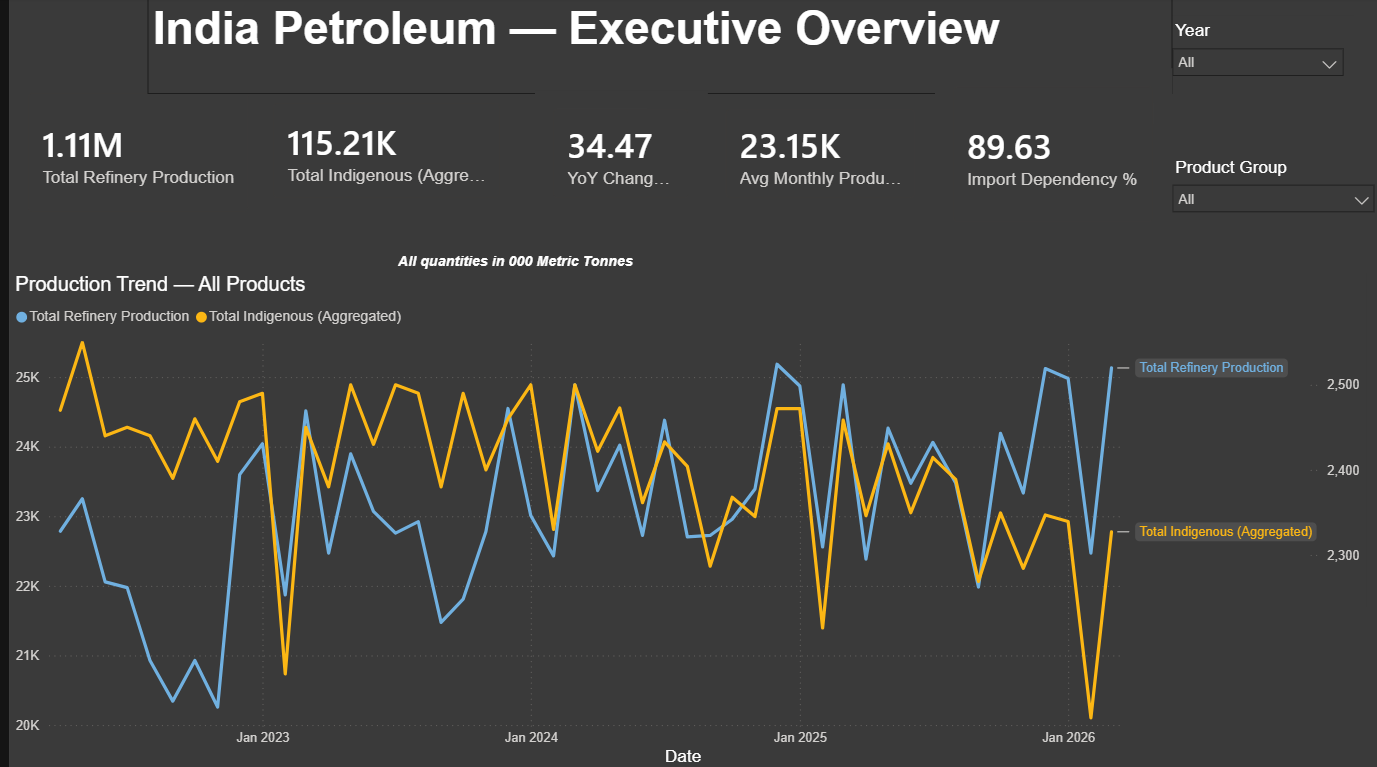

The dashboard page shown, as its layout file describes it:
{"tool":"powerbi","page":{"name":"Executive Overview","canvas":[1280,720],"ordinal":0},"visuals":[{"type":"cardVisual","fields":{"Data":["_Measures.Total Refinery Production"]},"box":[0,72.1,239.5,145.3],"z":0},{"type":"cardVisual","fields":{"Data":["_Measures.Total Indigenous (Aggregated)"]},"box":[227.9,81.4,245.3,123.3],"z":1000},{"type":"cardVisual","fields":{"Data":["_Measures.Avg Monthly Production"]},"box":[648.8,87.2,210.5,117.4],"z":2000},{"type":"lineChart","fields":{"Category":["DateTable.Date"],"Y":["_Measures.Total Refinery Production"],"Y2":["_Measures.Total Indigenous (Aggregated)"]},"box":[0,257,1261.6,462.8],"z":3000},{"type":"slicer","fields":{"Values":["DateTable.Year"]},"box":[1071.2,17.1,179.2,116.6],"z":4000},{"type":"slicer","fields":{"Values":["FactRefinery.Product Group"]},"box":[1071.2,143.7,209.1,89.6],"z":5000},{"type":"textbox","box":[128,0,953.1,91],"z":6000},{"type":"textbox","box":[1071,568,209,151],"z":7000},{"type":"textbox","box":[355.6,233.3,236.1,34.1],"z":8000},{"type":"cardVisual","fields":{"Data":["_Measures.Import Dependency %"]},"box":[860.5,66.3,220.9,160.5],"z":9000},{"type":"cardVisual","fields":{"Data":["_Measures.YoY Change %"]},"box":[488.4,87.2,160.5,117.4],"z":10000}]}

Visuals, with their boxes in screenshot pixels (x1, y1, x2, y2), scaled from the page's 1280x720 canvas onto the 1377x767 screenshot:
cardVisual - _Measures.Total Refinery Production: bbox=(0, 77, 258, 232)
cardVisual - _Measures.Total Indigenous (Aggregated): bbox=(245, 87, 509, 218)
cardVisual - _Measures.Avg Monthly Production: bbox=(698, 93, 924, 218)
lineChart - DateTable.Date x _Measures.Total Refinery Production: bbox=(0, 274, 1357, 766)
slicer - DateTable.Year: bbox=(1152, 18, 1345, 142)
slicer - FactRefinery.Product Group: bbox=(1152, 153, 1376, 249)
textbox: bbox=(138, 0, 1163, 97)
textbox: bbox=(1152, 605, 1376, 766)
textbox: bbox=(383, 249, 637, 285)
cardVisual - _Measures.Import Dependency %: bbox=(926, 71, 1163, 242)
cardVisual - _Measures.YoY Change %: bbox=(525, 93, 698, 218)
